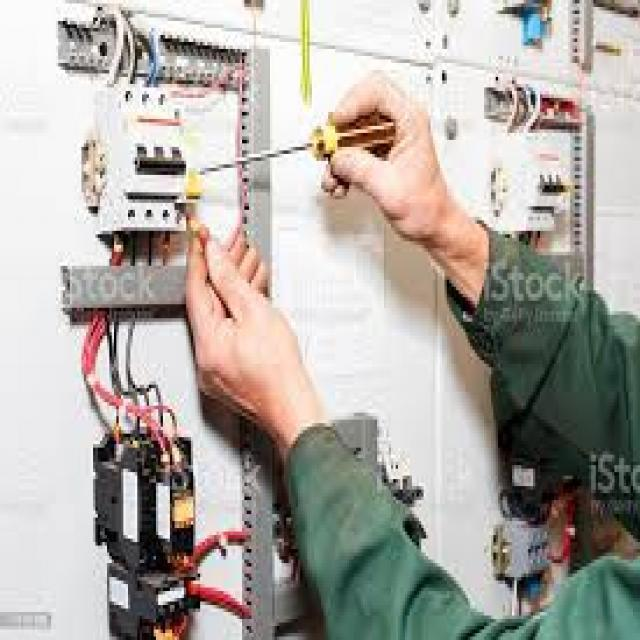screwdriver: (194, 106, 402, 184)
